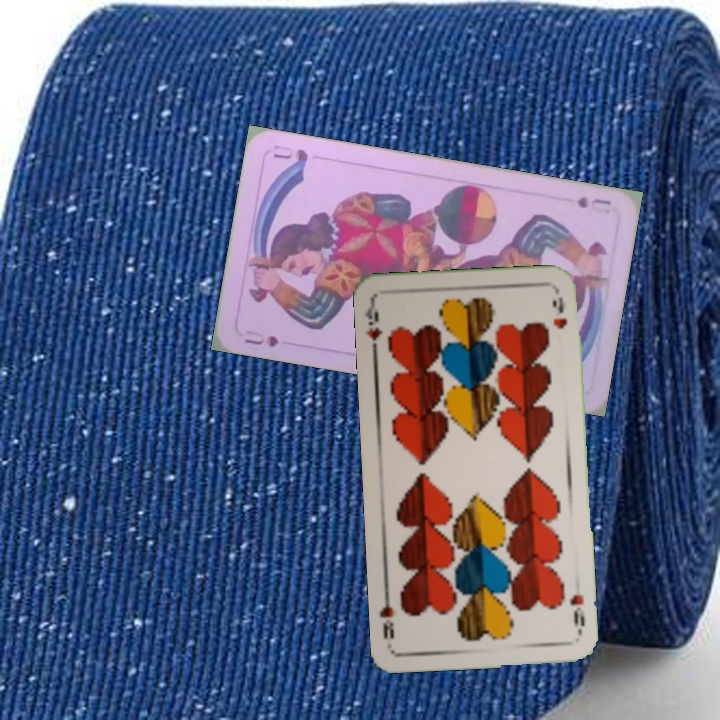H9: (361, 298, 385, 357), (566, 590, 587, 629)
SU: (240, 326, 282, 350), (573, 192, 614, 211)
